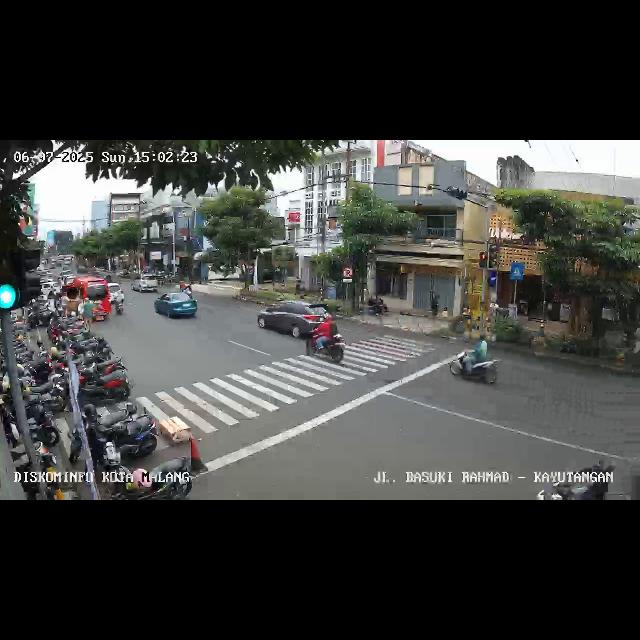car: (258, 299, 336, 345), (62, 276, 110, 324), (154, 292, 198, 324), (132, 274, 162, 294)
motorcycle: (448, 337, 500, 391), (308, 314, 344, 366), (112, 286, 126, 316)
